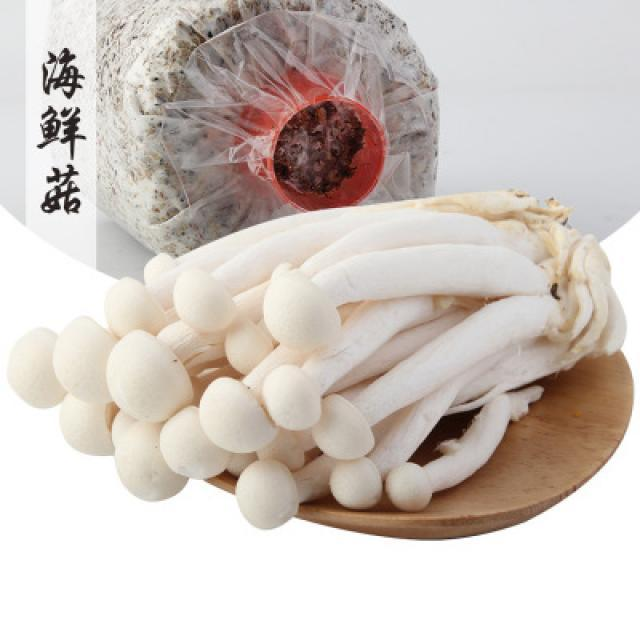Hypsizygus marmoreus: (10, 190, 626, 525)
